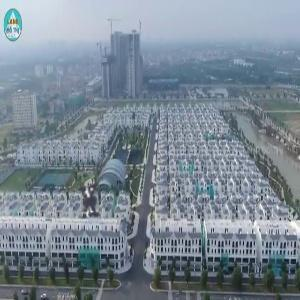drone: (46, 154, 143, 251)
